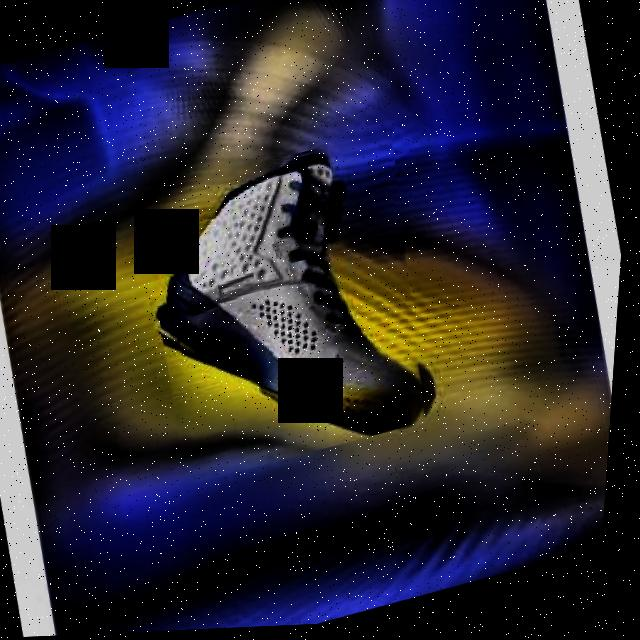shoe: (126, 128, 459, 490)
